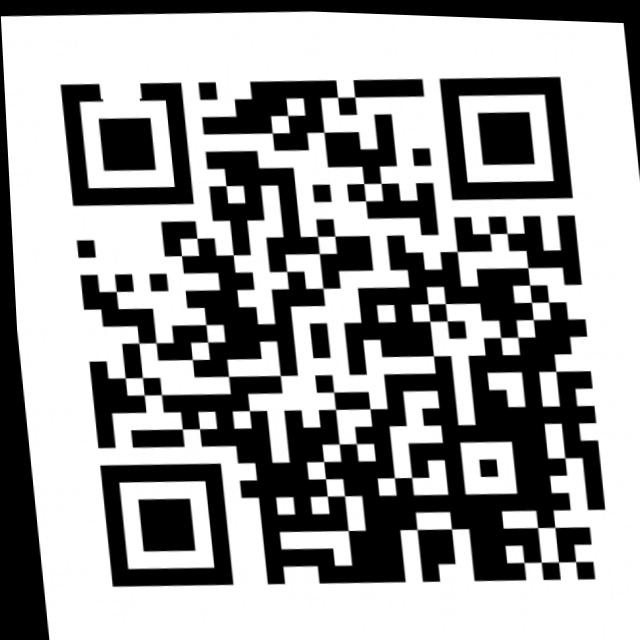QR_CODE: (36, 39, 629, 624)
